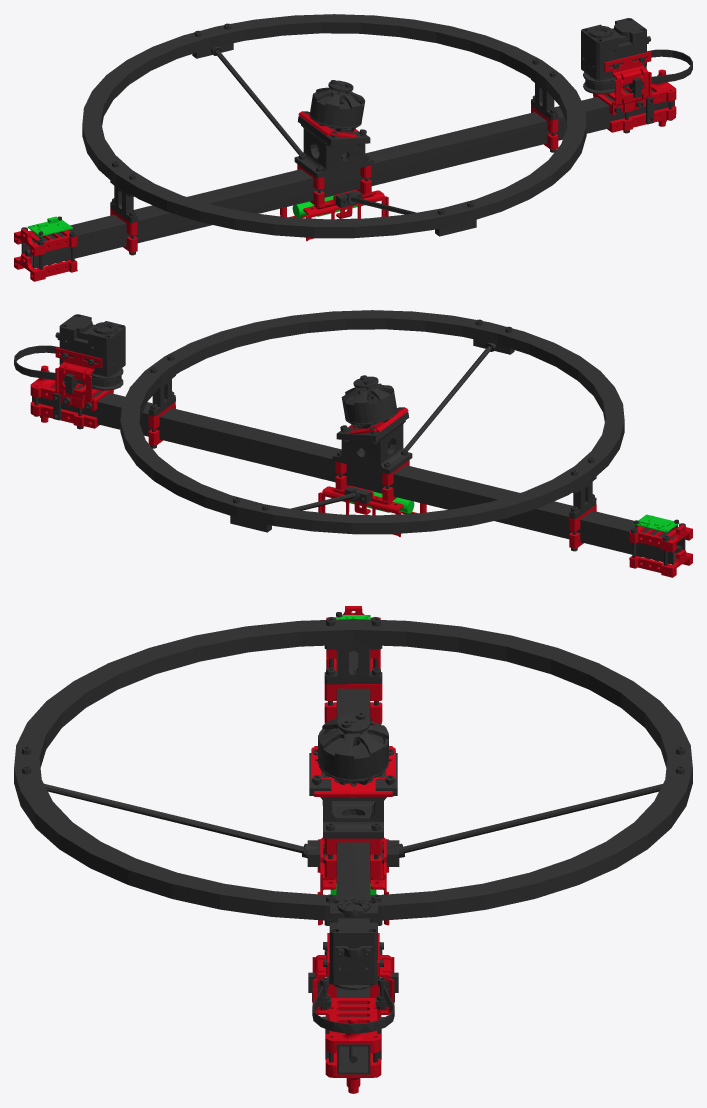
File: tilt_10deg_link1.dae
3 renders of one model, top to bottom at view 1: azimuth 30°, elevation 25°; view 2: azimuth 150°, elevation 25°; view 3: azimuth 270°, elevation 25°, orthographic. The views are drawn at different scales.
Visible parts, largest first — view 1: tilt_10deg_link1_black_part, tilt_link1_red_part, link1_green_part; view 2: tilt_10deg_link1_black_part, tilt_link1_red_part, link1_green_part; view 3: tilt_10deg_link1_black_part, tilt_link1_red_part.
Part boxes in pixels (left/top/right/bottom): tilt_10deg_link1_black_part: left=21, top=14, right=692, bottom=269; tilt_link1_red_part: left=14, top=51, right=676, bottom=281; link1_green_part: left=27, top=195, right=375, bottom=236; tilt_10deg_link1_black_part: left=14, top=310, right=685, bottom=565; tilt_link1_red_part: left=30, top=347, right=692, bottom=577; link1_green_part: left=331, top=491, right=679, bottom=532; tilt_10deg_link1_black_part: left=14, top=612, right=692, bottom=1077; tilt_link1_red_part: left=311, top=606, right=395, bottom=1093.
Bounding box in the file's own units: 0.6083 × 0.3997 × 0.1211.
